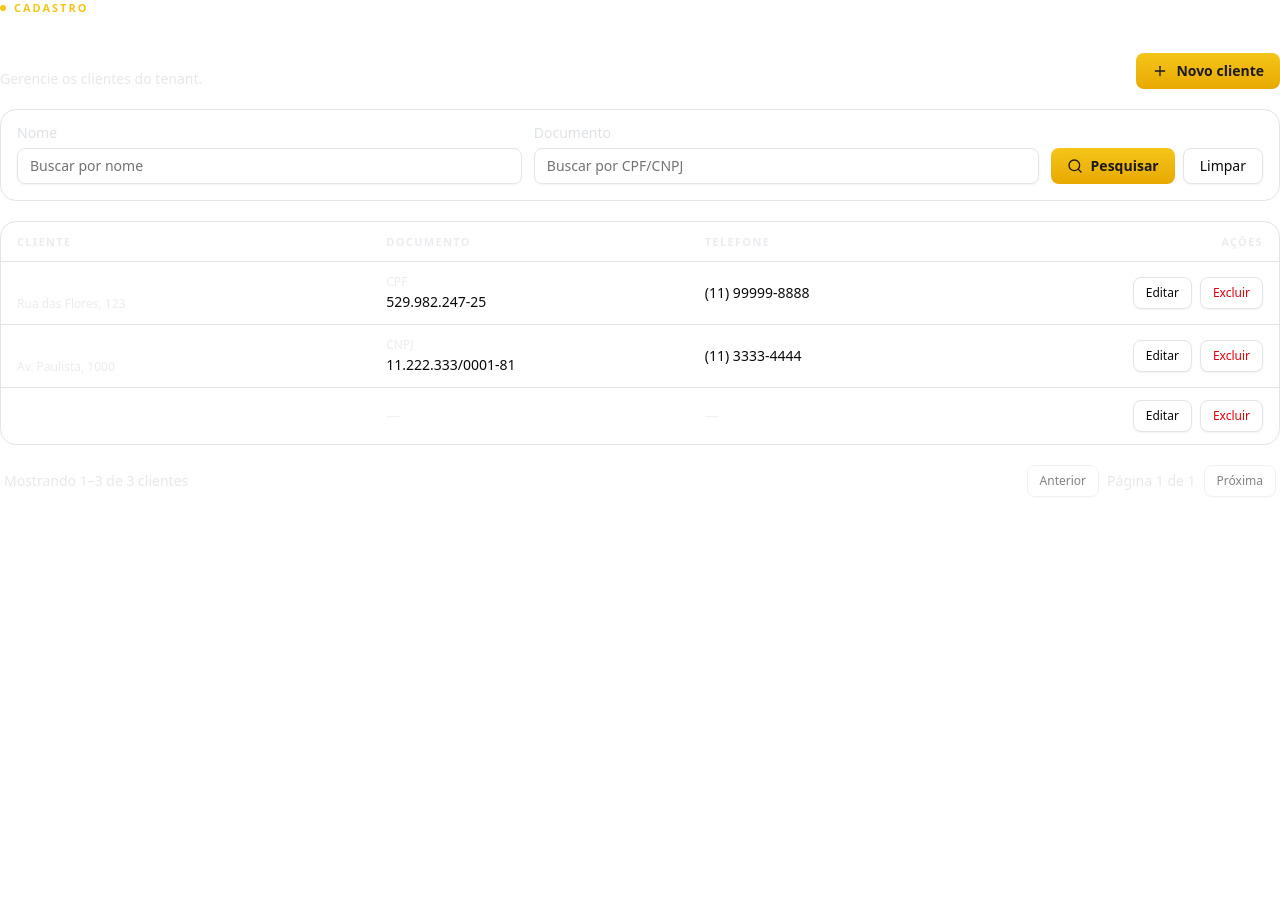
CustomersScreen › formata CPF e CNPJ ao sair do campo na criação
The image size is (1280, 900).
Click the button "Novo cliente": (1208, 70) left=1136, top=52, right=1279, bottom=88
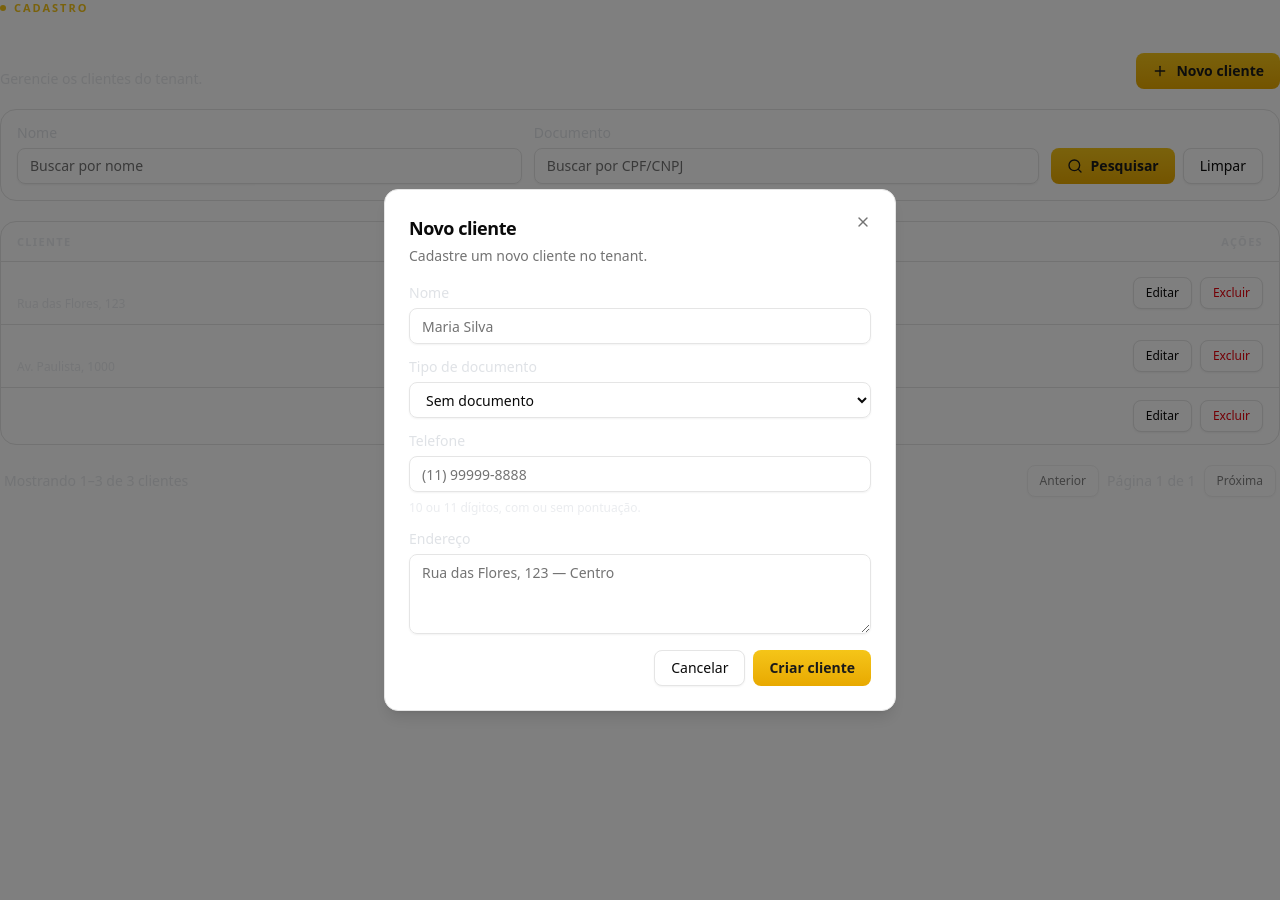
Select "CPF" in the dropdown labelled "Tipo de documento": (640, 400) left=409, top=382, right=871, bottom=418
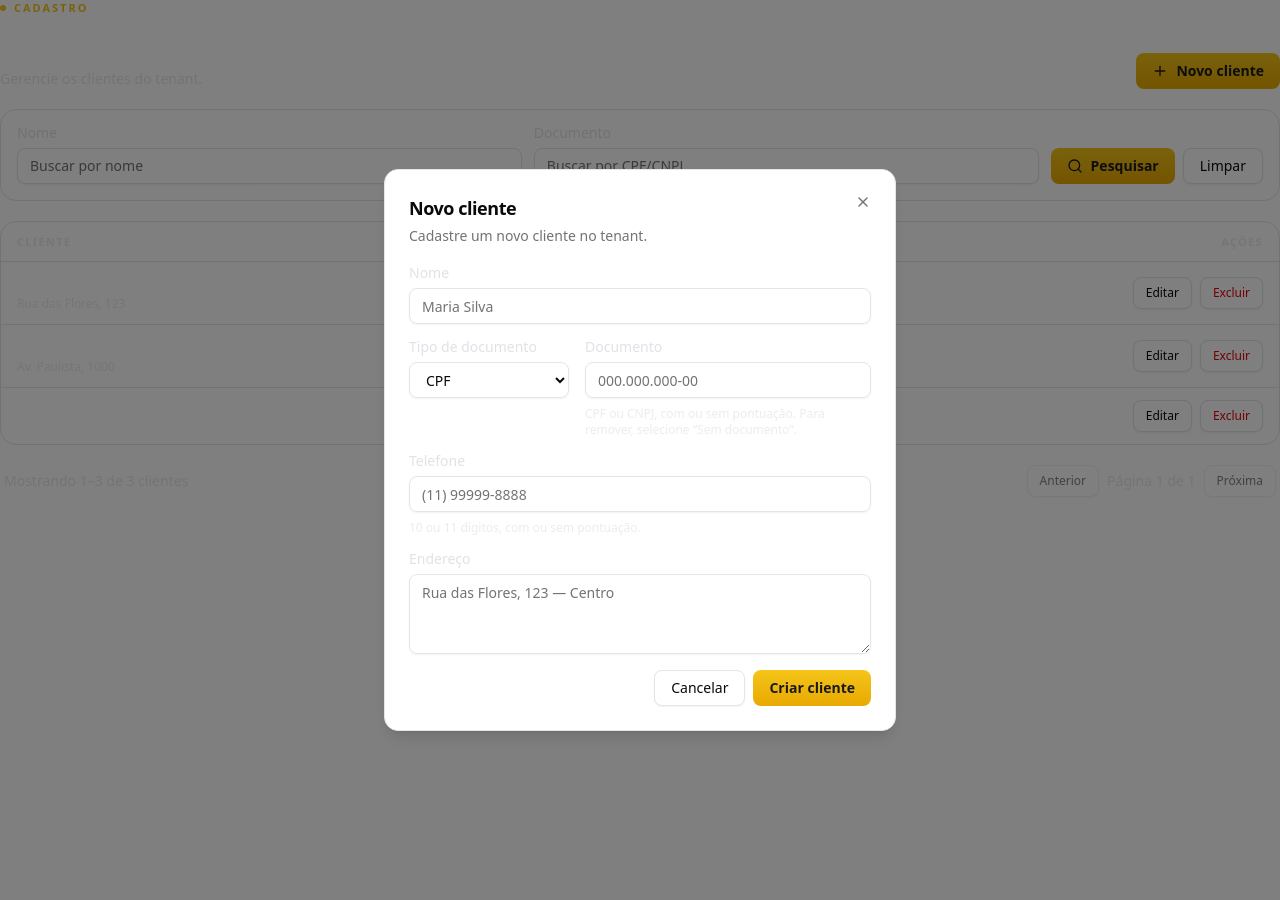
In the field labelled "Documento": (728, 380) left=585, top=362, right=871, bottom=398, type "52998224725"
Leave the field labelled "Documento", box left=585, top=362, right=871, bottom=398
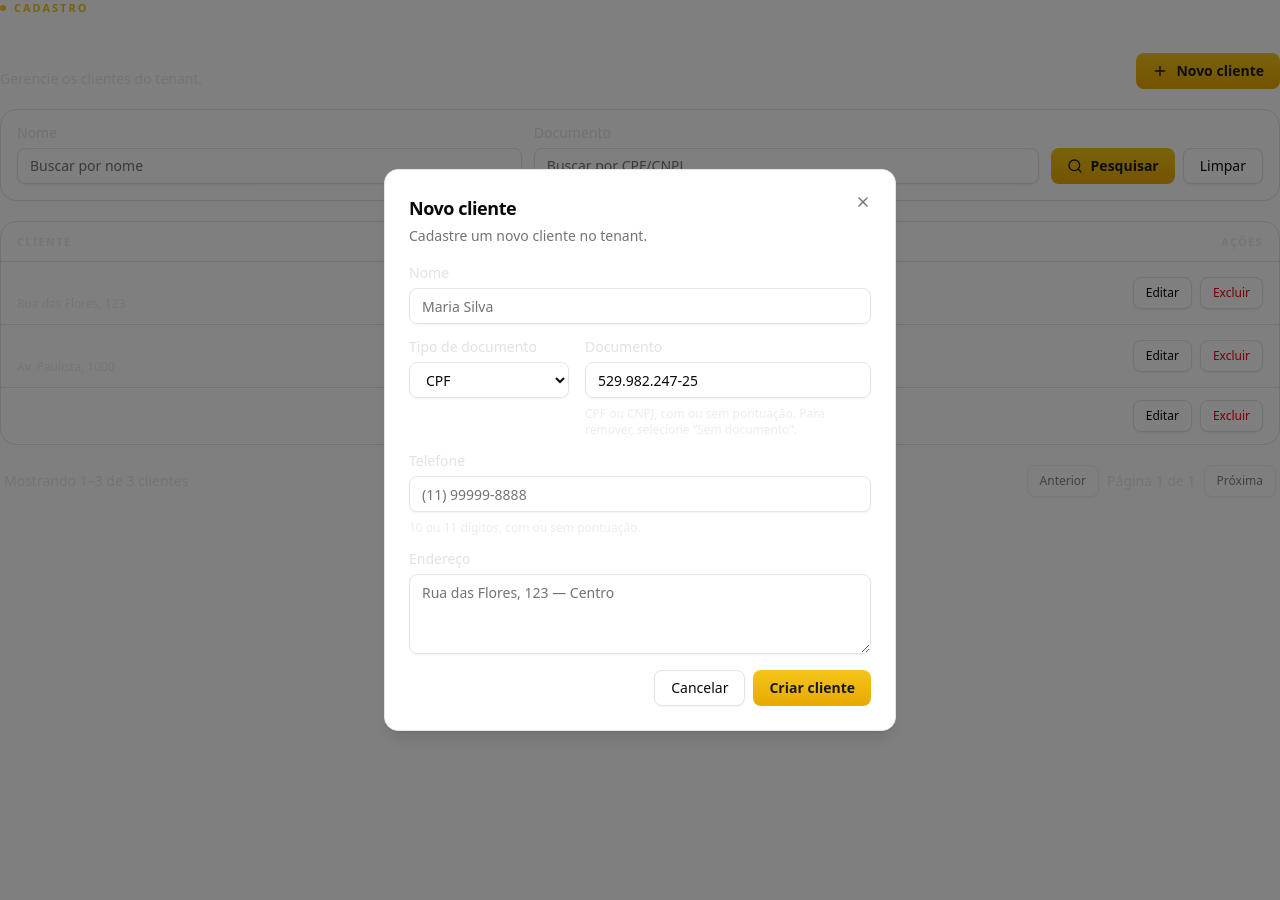
Check: the field labelled "Documento" holds "529.982.247-25", box left=585, top=362, right=871, bottom=398
Select "CNPJ" in the dropdown labelled "Tipo de documento": (489, 380) left=409, top=362, right=569, bottom=398
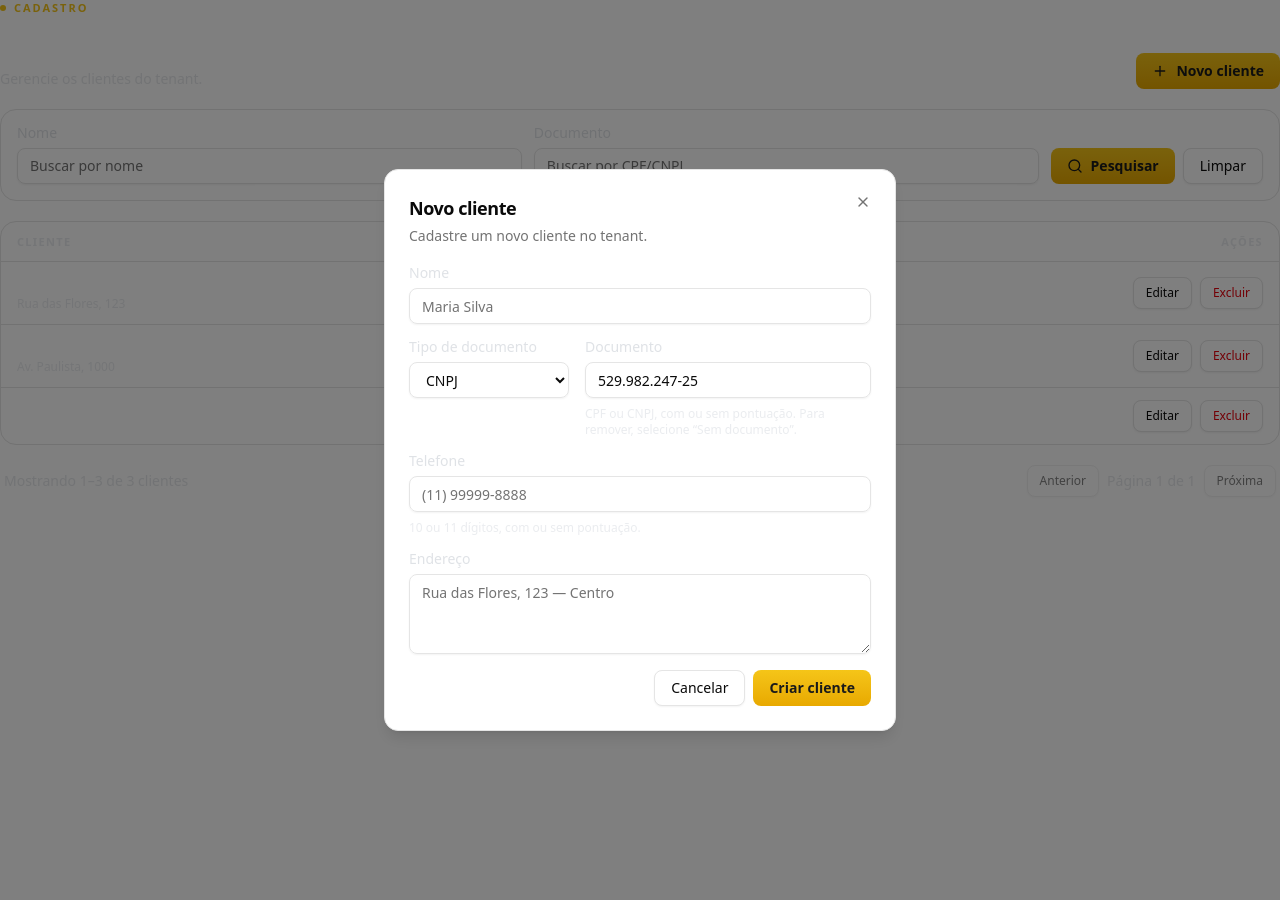
Replace the text in the field labelled "Documento" with "11222333000181": (728, 380) left=585, top=362, right=871, bottom=398
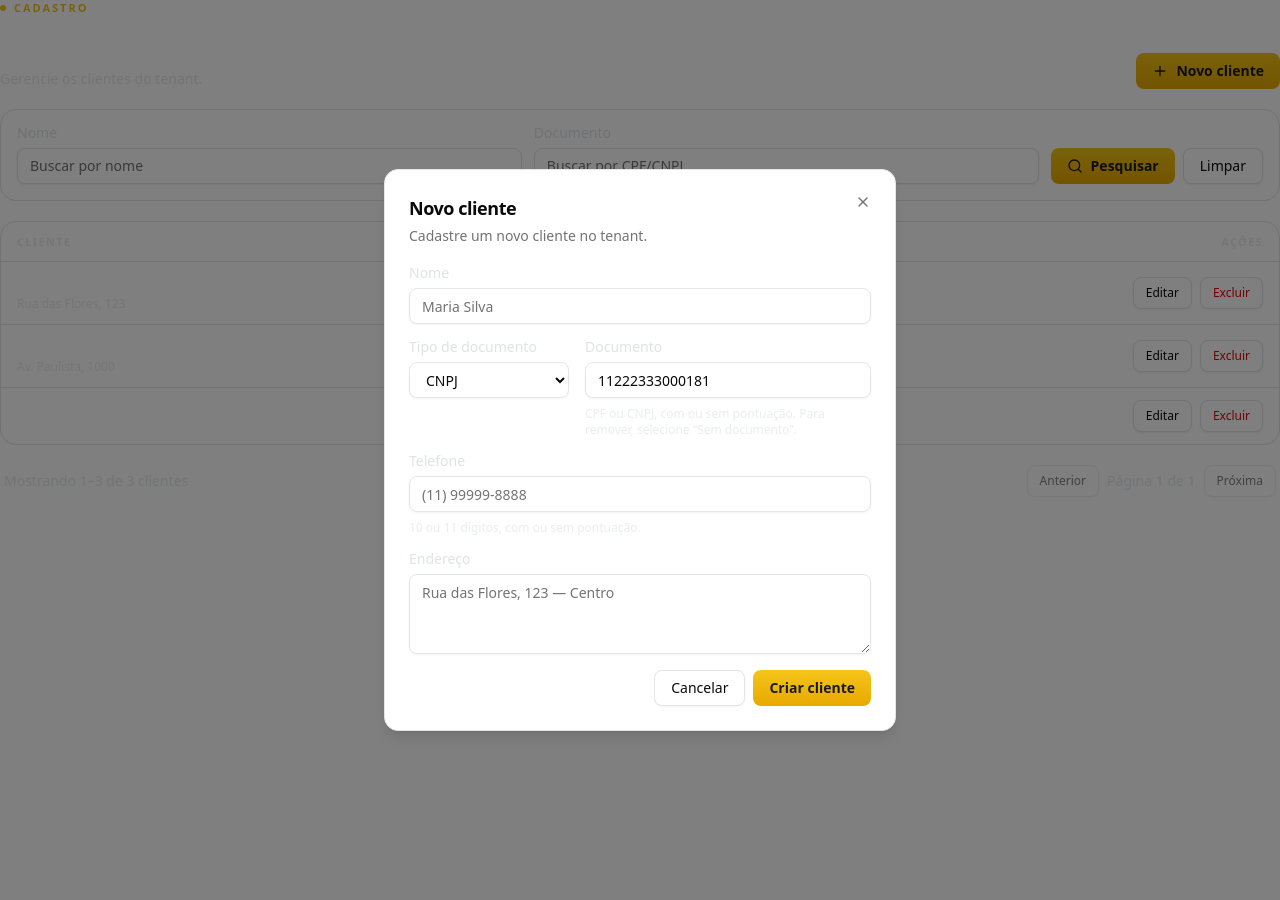
Leave the field labelled "Documento", box left=585, top=362, right=871, bottom=398
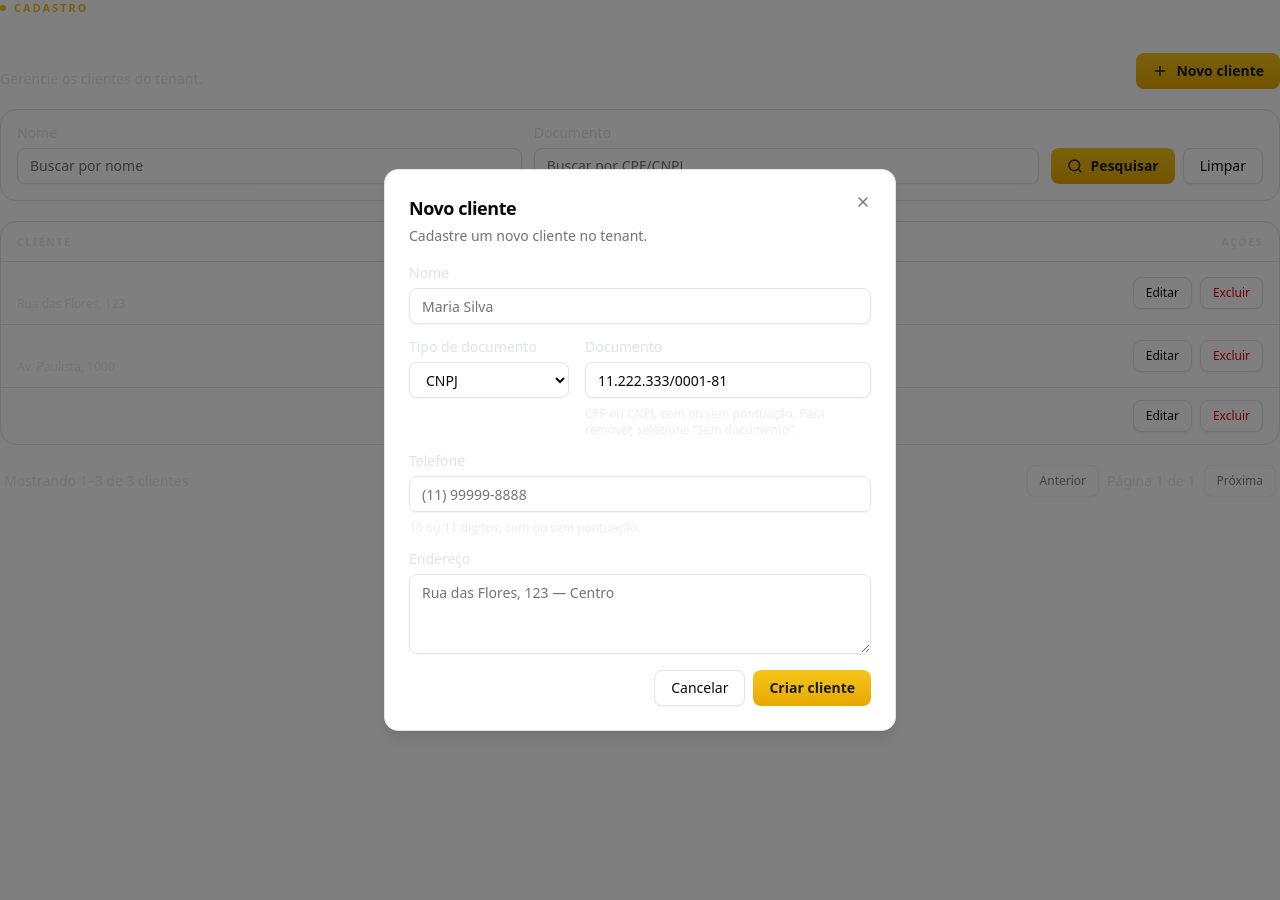
Check: the field labelled "Documento" holds "11.222.333/0001-81", box left=585, top=362, right=871, bottom=398
